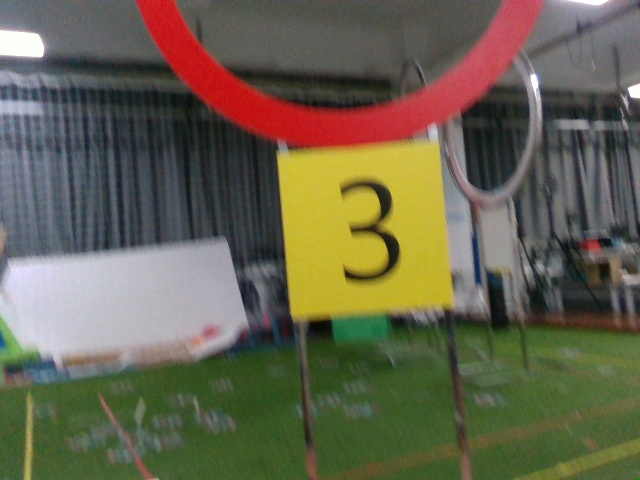target: (279, 150, 451, 310)
